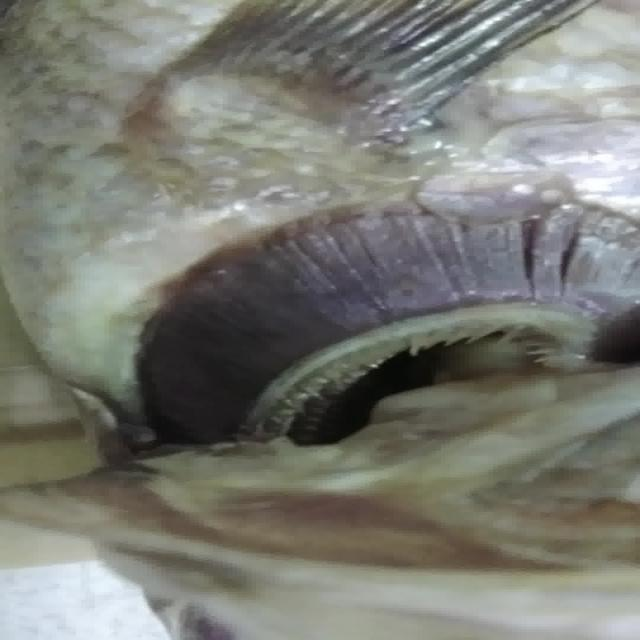Non-Fresh: (142, 174, 640, 462)
